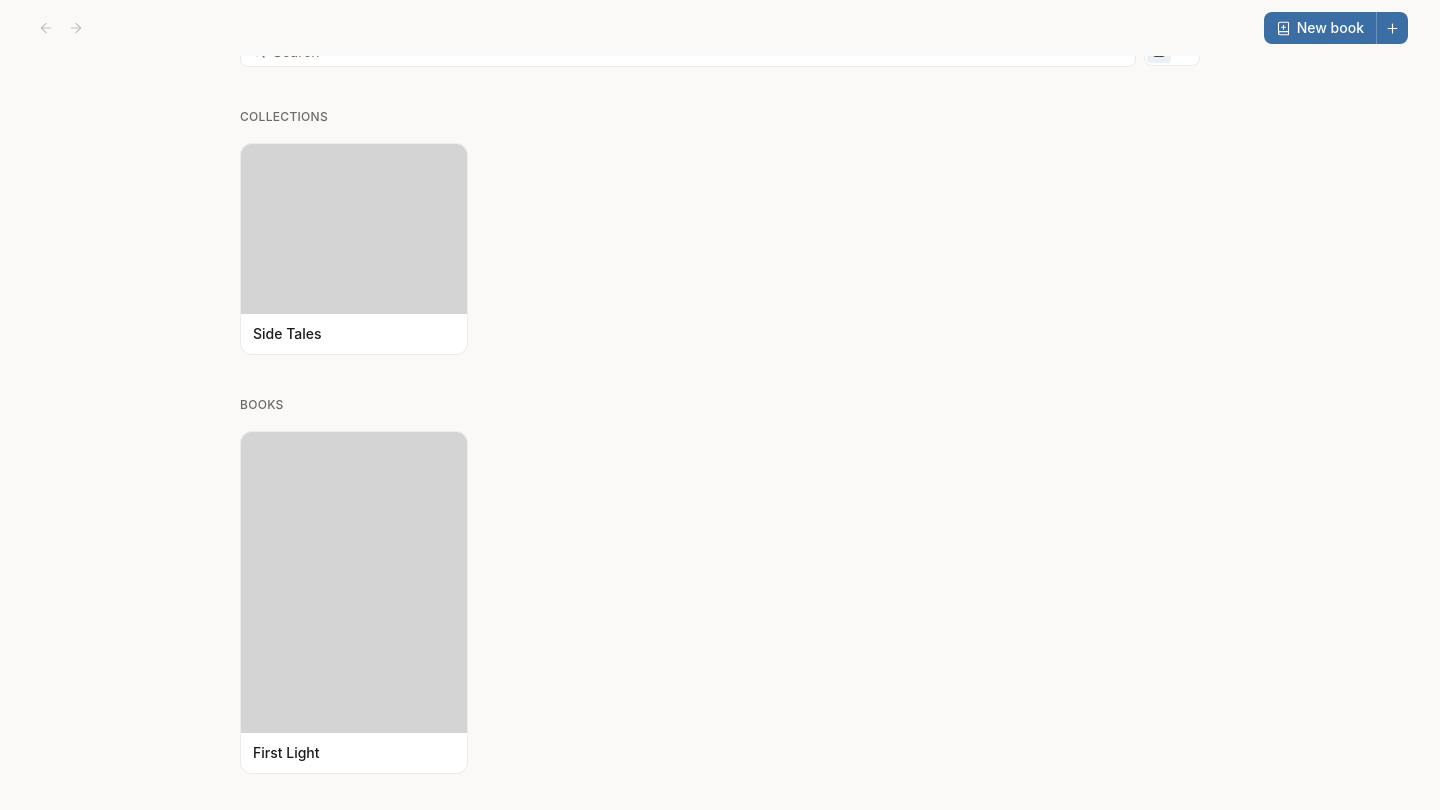
Test: CollectionPage › cancels an in-progress rename without patching on Escape
(page scrolled)
Type "Novels" into the text box named "Books section name" at (720, 404), box x1=240 y1=396 x2=1200 y2=412
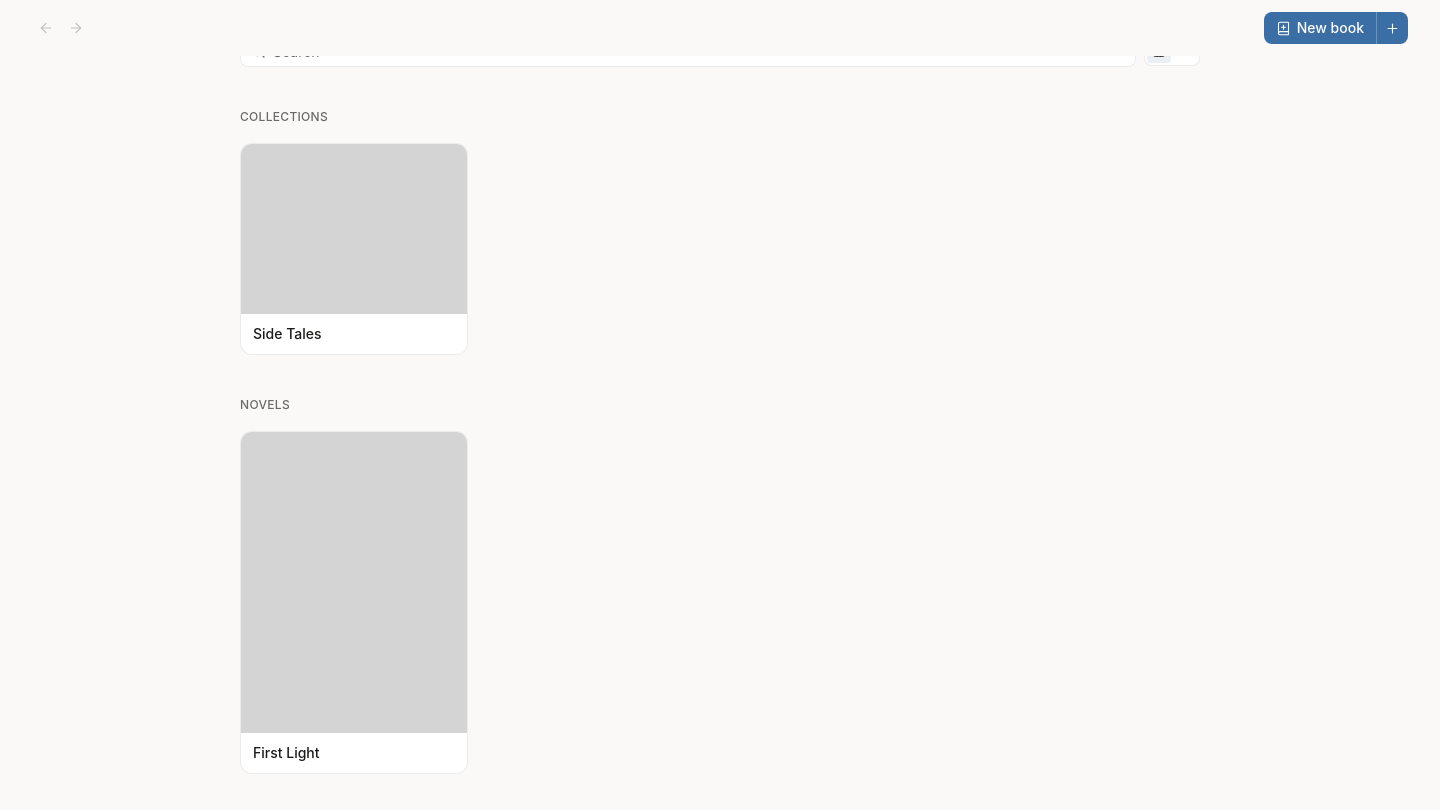
Press Escape
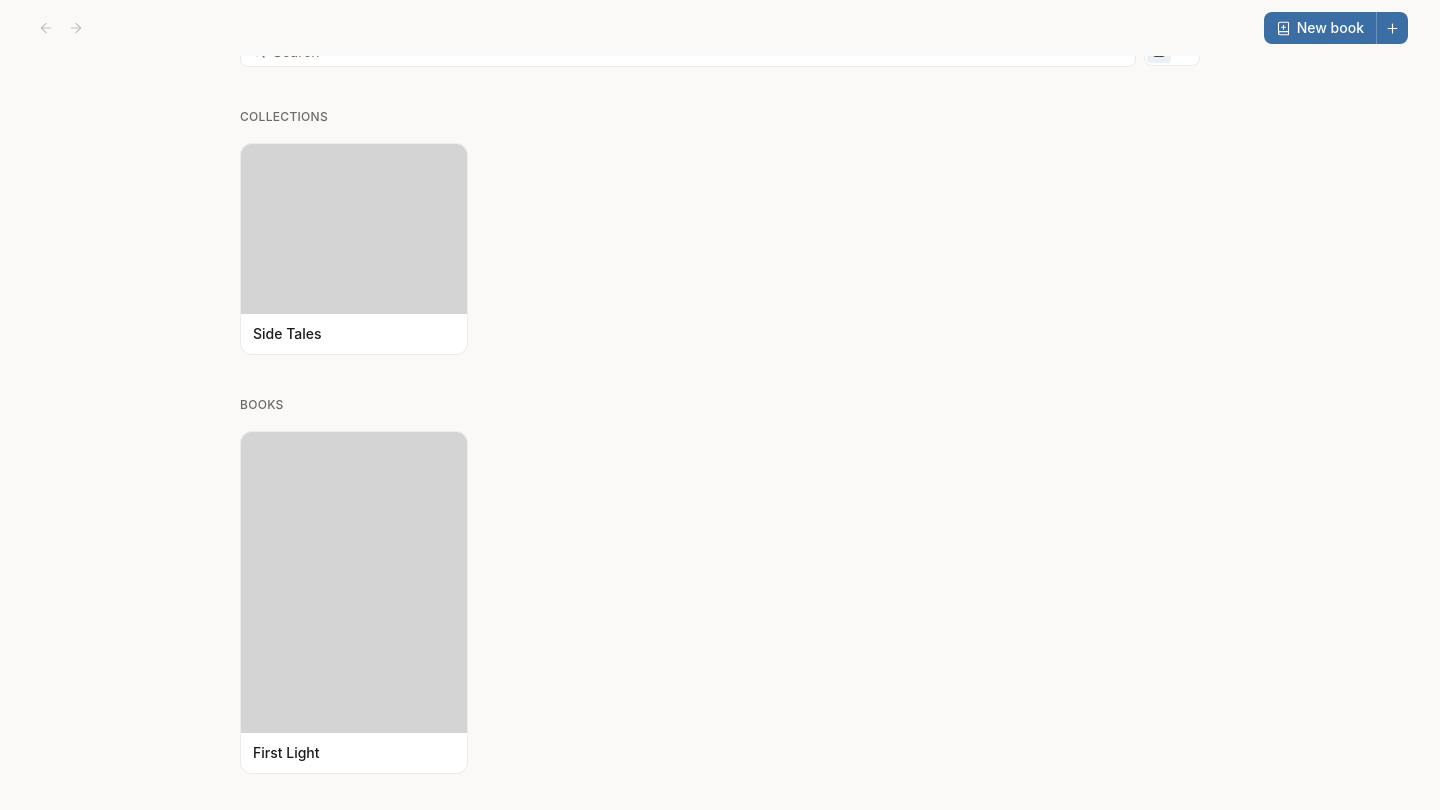
Now the text box named "Books section name" holds "Books", box x1=240 y1=396 x2=1200 y2=412
